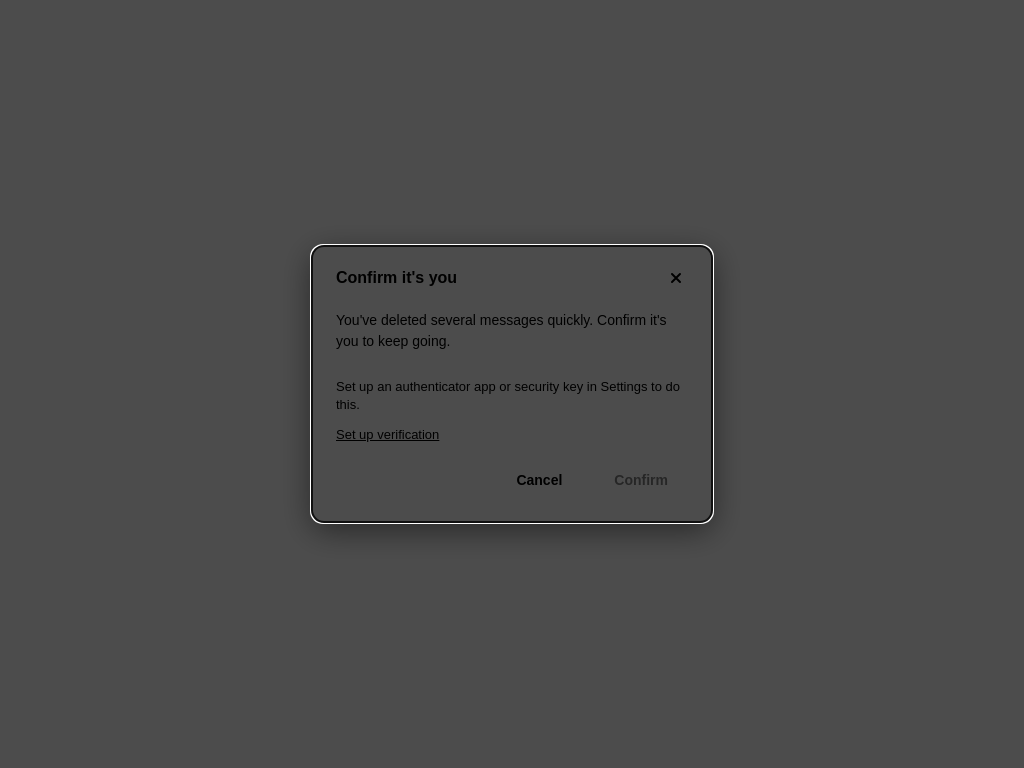
Test: DeleteRefusalModal set up verification (#3456 §3.6a) › the link does nothing once the account is not the refused delete's
Click the button "Set up verification": (388, 434) [336,422,439,446]
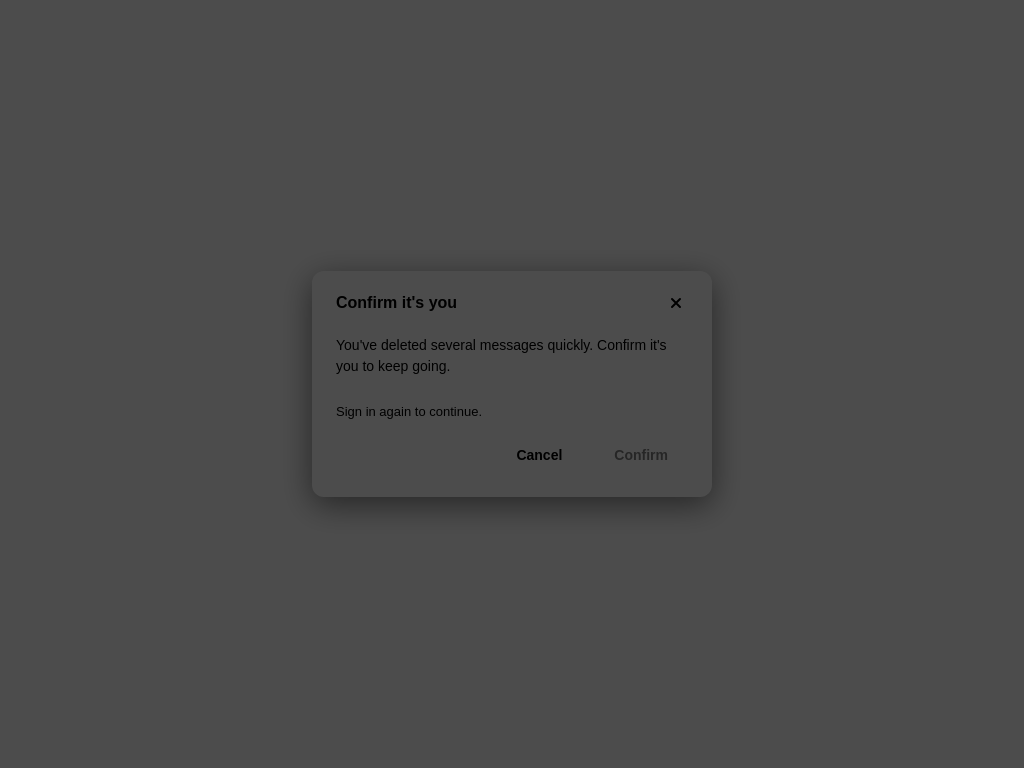
Expected: the text "Sign in again to continue." is shown, [336,404,482,419]
